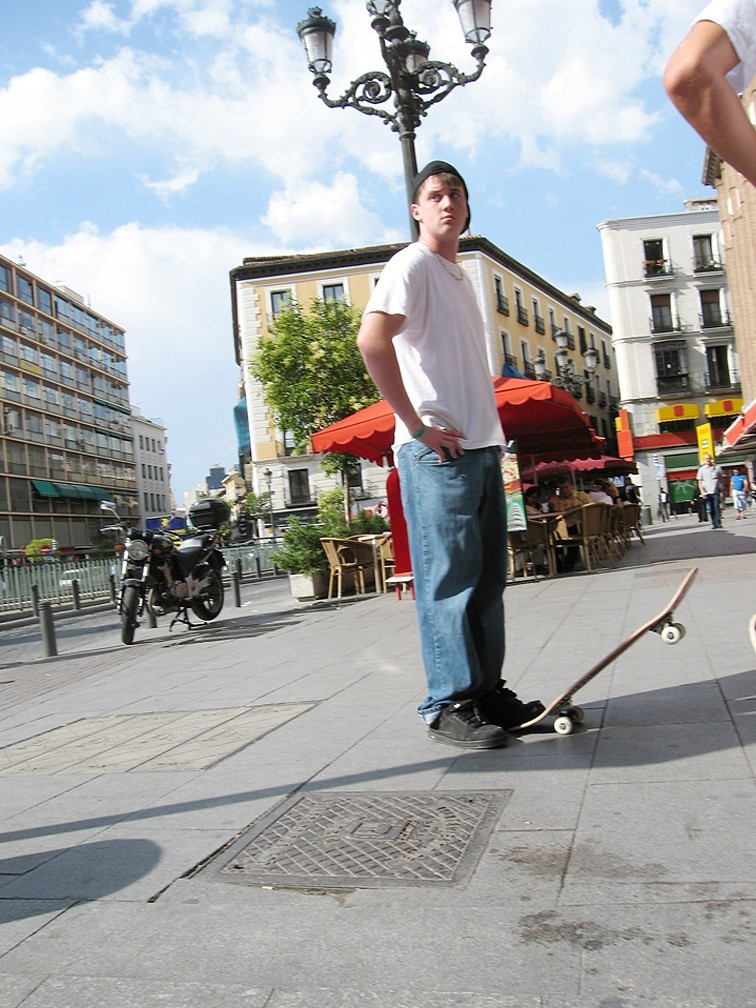face_no_mask: (409, 162, 473, 248)
